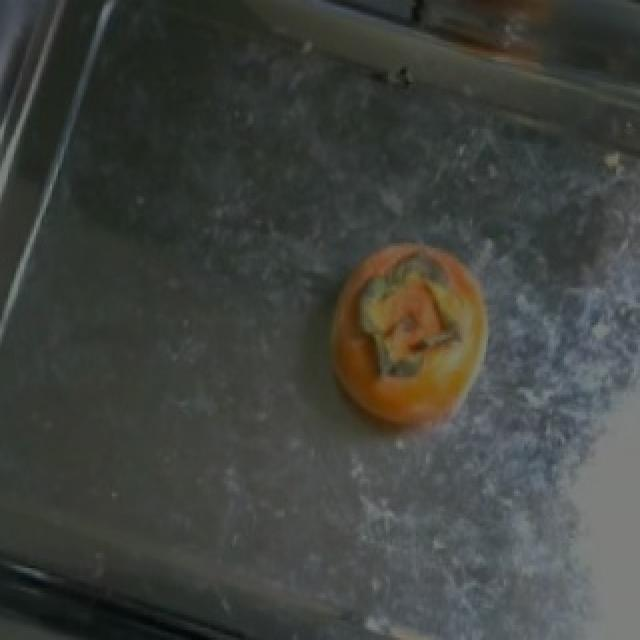Fruit: (306, 218, 508, 456)
